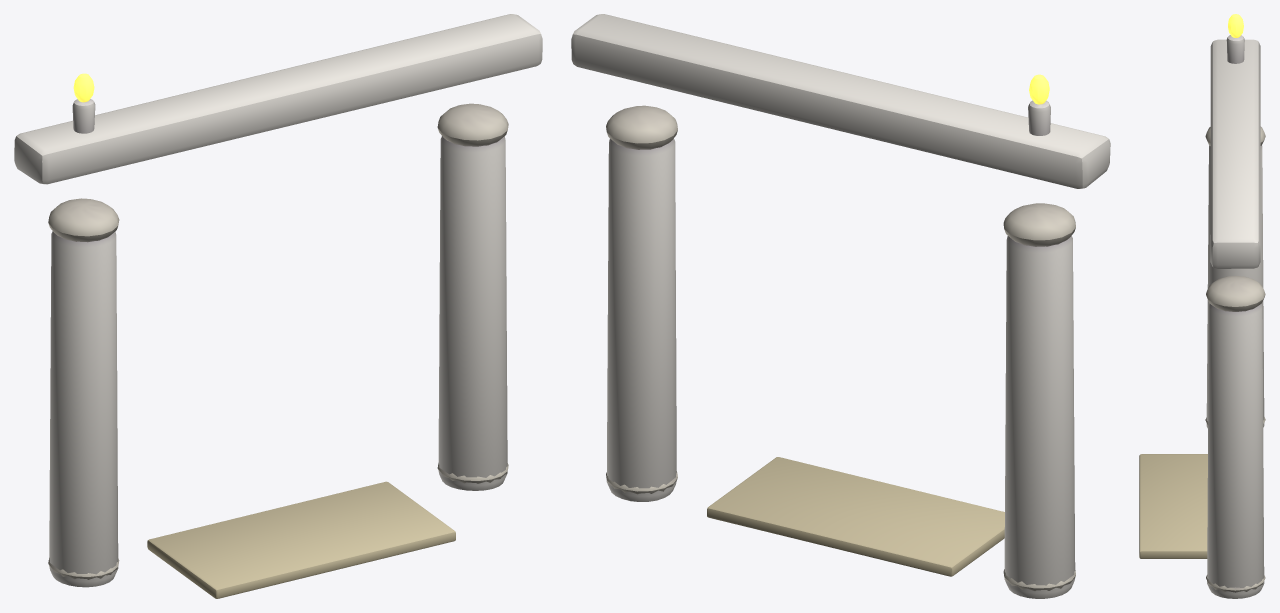
The picture shows the model from 3 angles, left to right: view 1: azimuth 30°, elevation 25°; view 2: azimuth 150°, elevation 25°; view 3: azimuth 270°, elevation 25°; orthographic projection. The views are drawn at different scales.
Parts seen in each view (by area): view 1: gate_c9e0fe14; view 2: gate_c9e0fe14; view 3: gate_c9e0fe14.
Boxes of the visible parts, left/top/right/bottom form: gate_c9e0fe14: left=14, top=14, right=542, bottom=598; gate_c9e0fe14: left=571, top=14, right=1110, bottom=598; gate_c9e0fe14: left=1139, top=14, right=1265, bottom=598.
Size of the model in its own units: 5.03 by 4.79 by 1.31.
